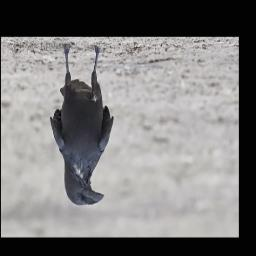Crow: (49, 42, 116, 207)
